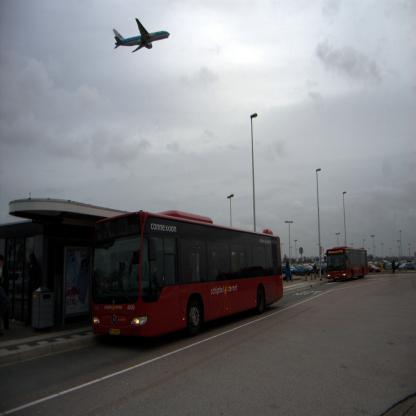Bus: (88, 208, 284, 336), (324, 247, 370, 280)
